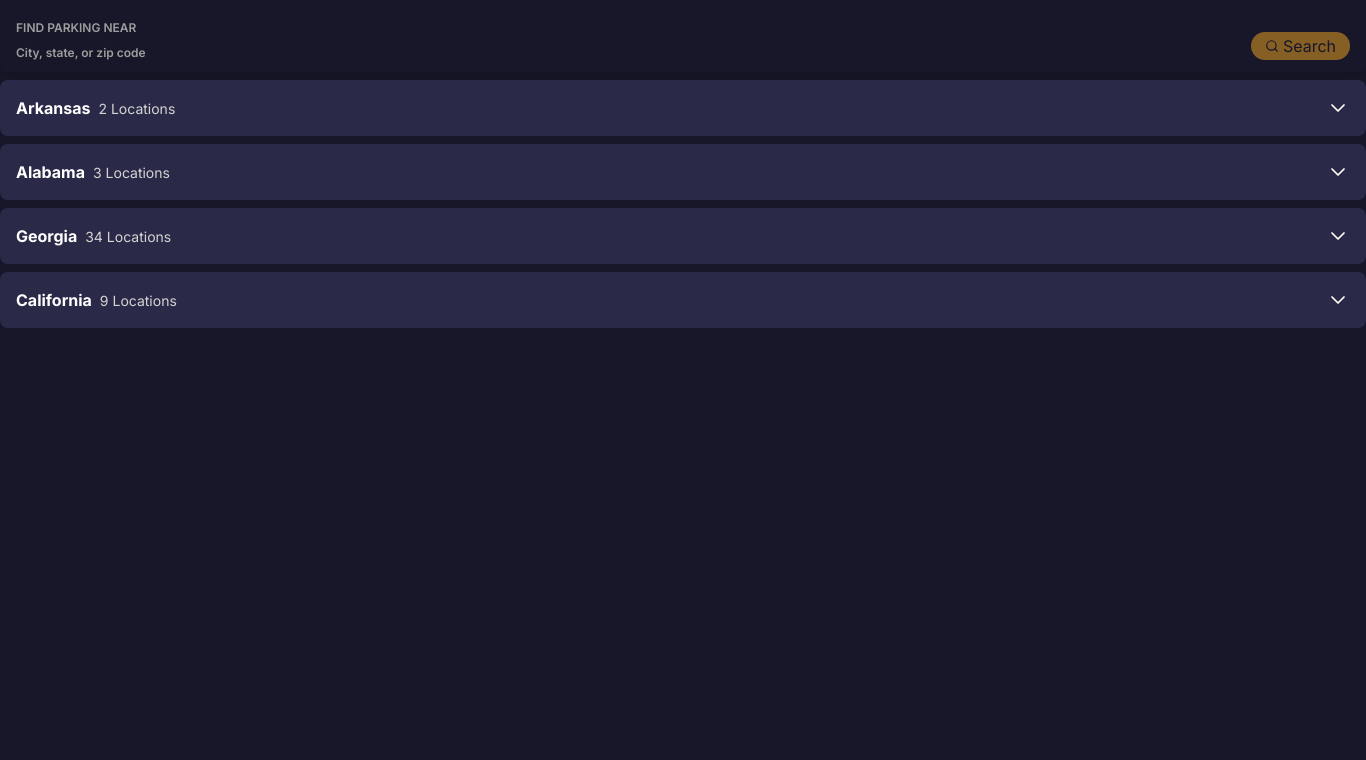
Test: LocationsAccordion › filters on submit and opens the first matching state
The width and height of the screenshot is (1366, 760).
Type "California" into the search field labelled "Find parking near" at point(627, 52), box [16,40,1239,64]
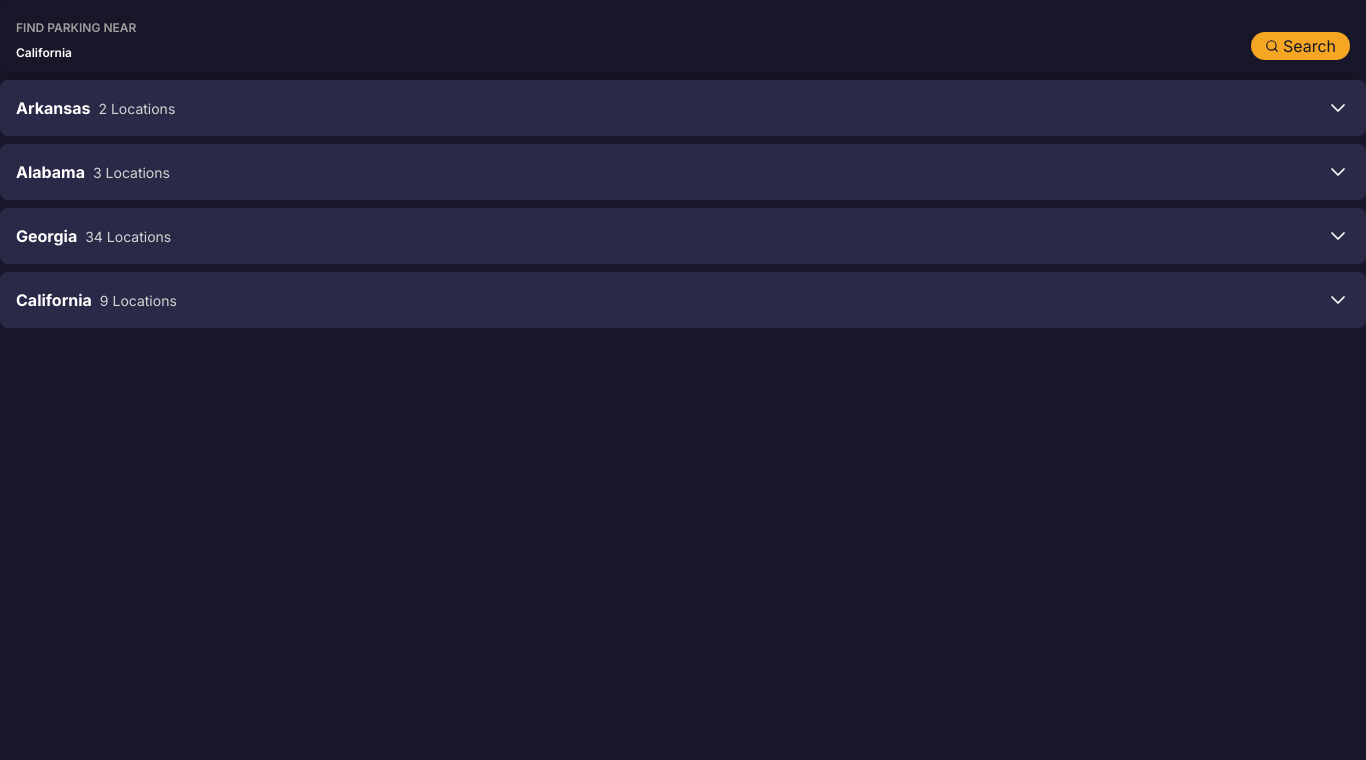
Click the button "Search" at point(1300, 46), box [1251,32,1350,60]
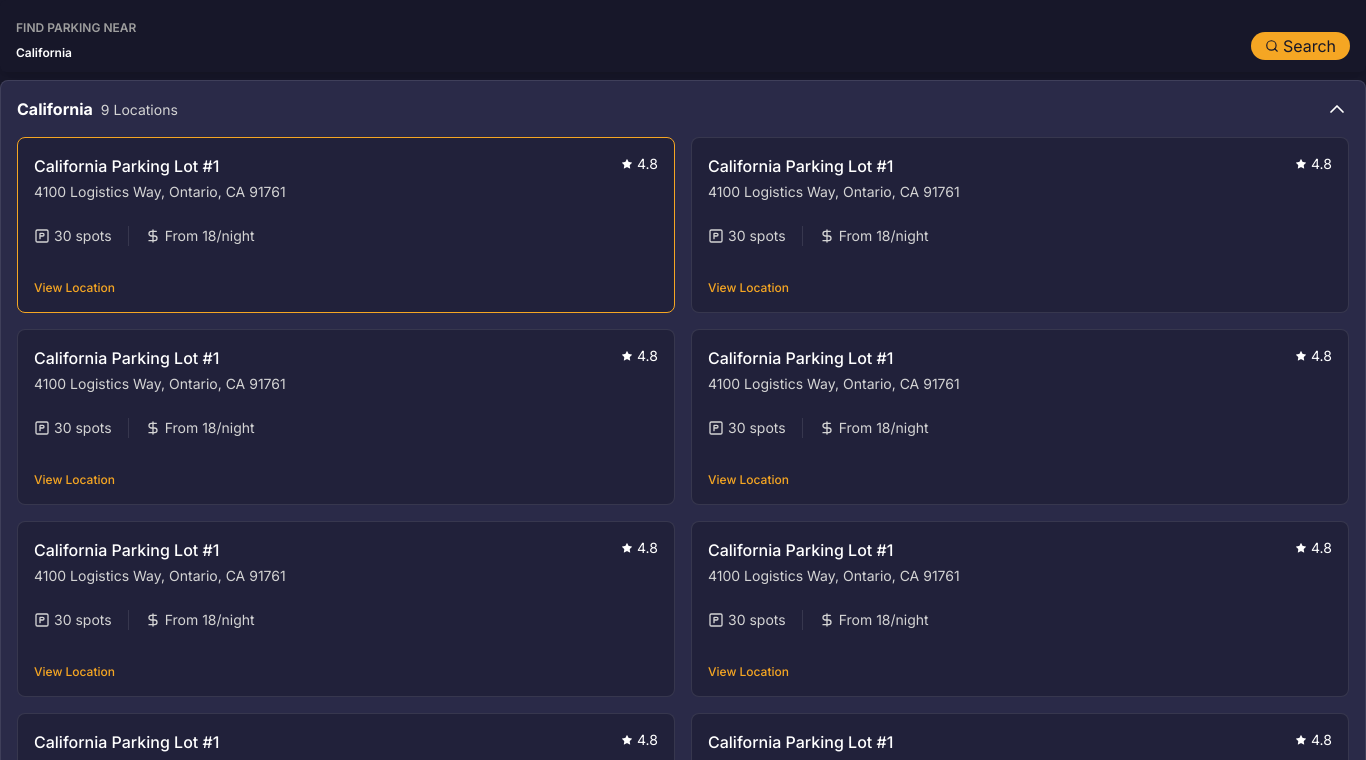
Expected: the button with aria-label "California, 9 Locations" is expanded, [17,97,1349,121]
Expected: the number of headings "California Parking Lot #1" is 9
